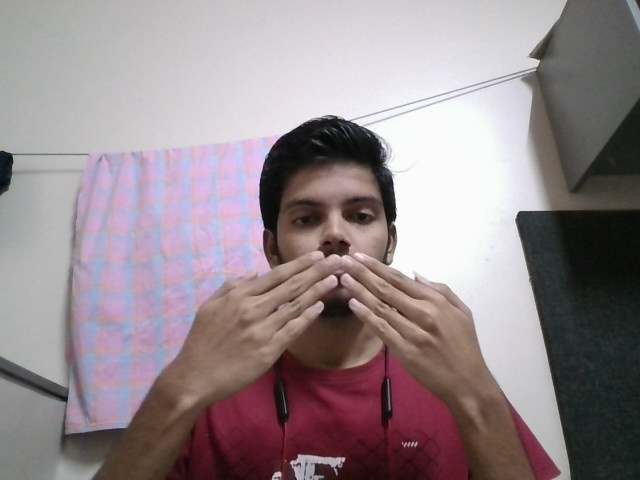Thank You: (187, 248, 492, 414)
